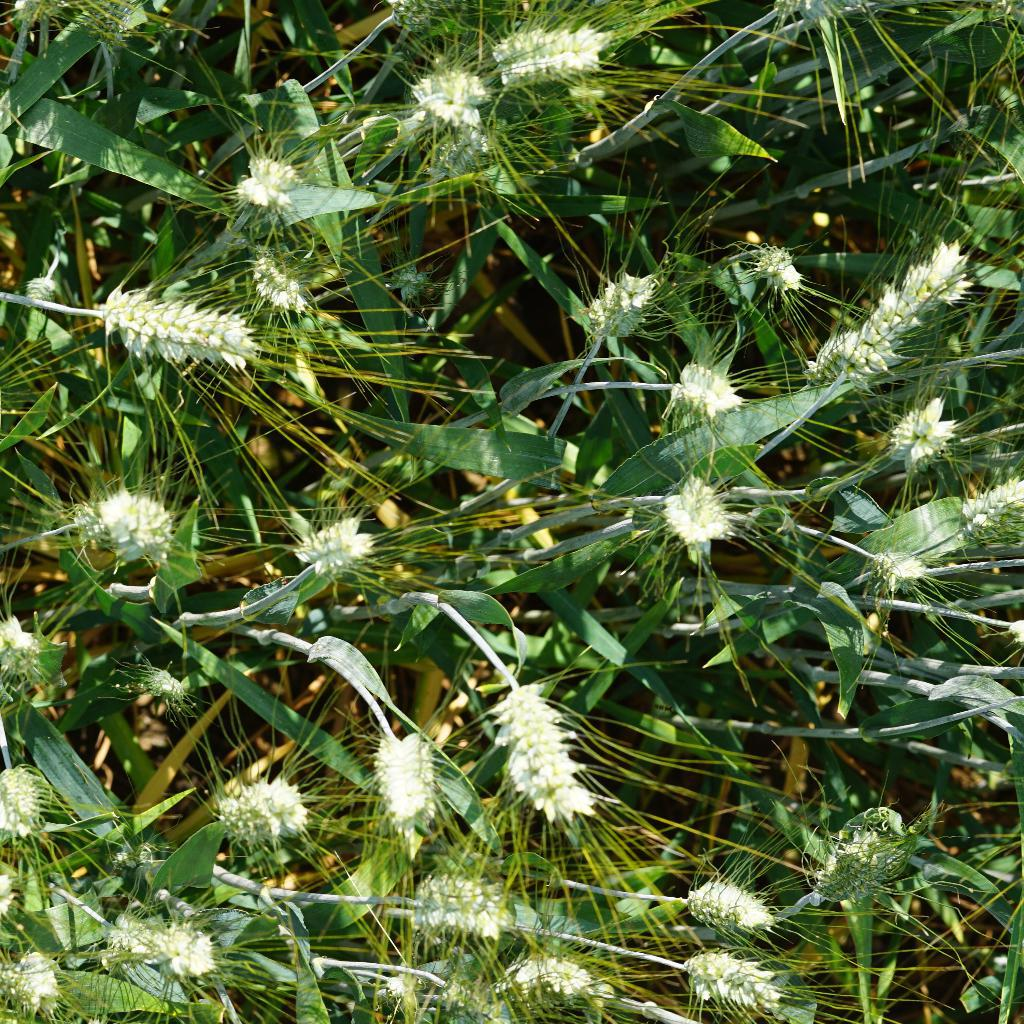0-0: (488, 666, 606, 836), (82, 283, 265, 372), (354, 713, 440, 845), (488, 23, 634, 100), (811, 817, 927, 912), (878, 228, 985, 320), (204, 759, 311, 851), (58, 481, 175, 560), (391, 867, 504, 944), (104, 916, 230, 983), (665, 863, 778, 937), (677, 950, 792, 1017), (400, 56, 492, 139), (638, 473, 733, 553), (225, 249, 328, 322), (811, 316, 929, 378), (418, 117, 504, 197), (504, 950, 608, 1015), (881, 389, 968, 464), (284, 520, 378, 586), (580, 273, 664, 342), (432, 960, 512, 1024), (0, 752, 55, 845), (856, 526, 931, 593), (737, 235, 819, 295), (225, 152, 302, 215), (671, 357, 744, 421), (370, 0, 473, 41), (361, 960, 424, 1024), (951, 477, 1024, 530), (85, 0, 154, 49), (378, 251, 435, 310), (4, 948, 58, 1009), (130, 666, 191, 718), (0, 613, 47, 680), (104, 827, 161, 875), (19, 269, 59, 312)
